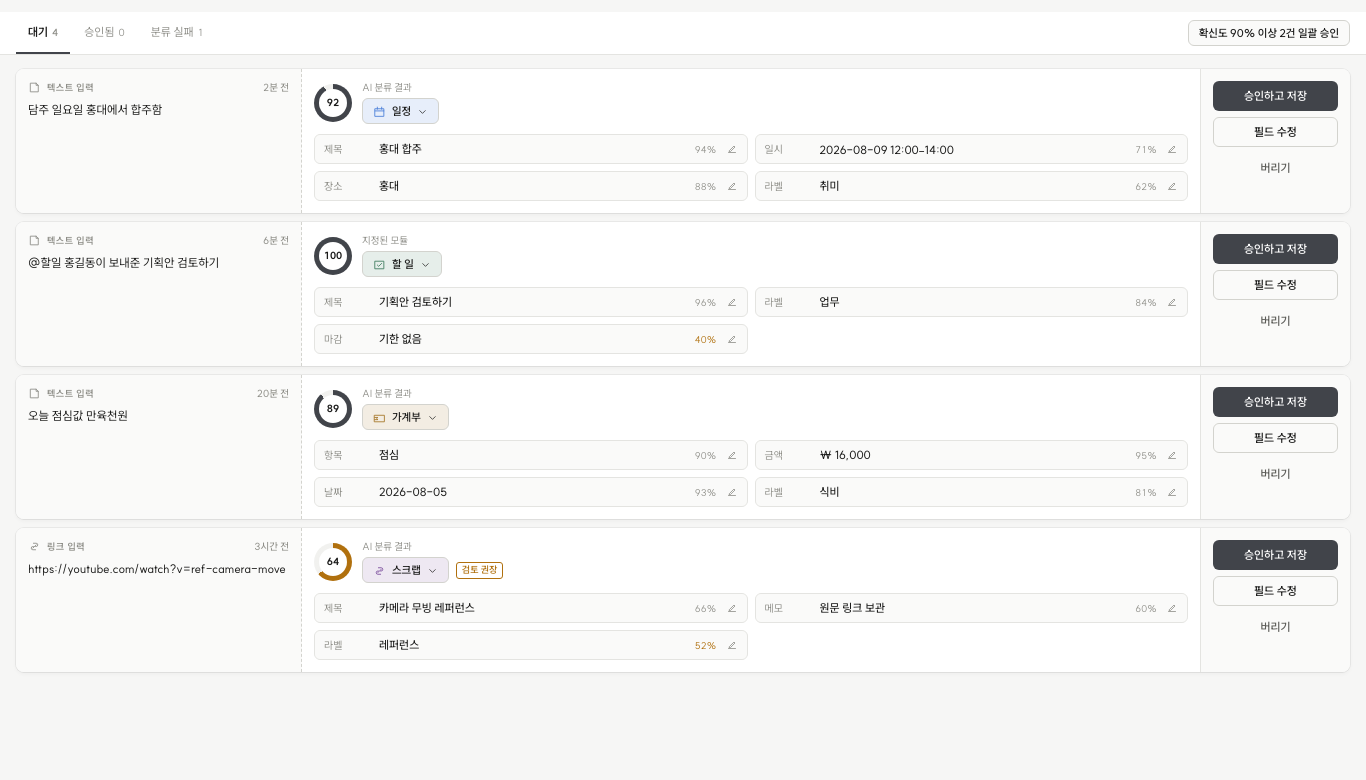
Test: InboxPage › approves a single item and high-confidence items
What coordinates should you click on to do the following:
click the button "승인하고 저장" in the row of "92"
I would click on:
 (1276, 96)
Its box is top-left (1213, 81), bottom-right (1338, 111).
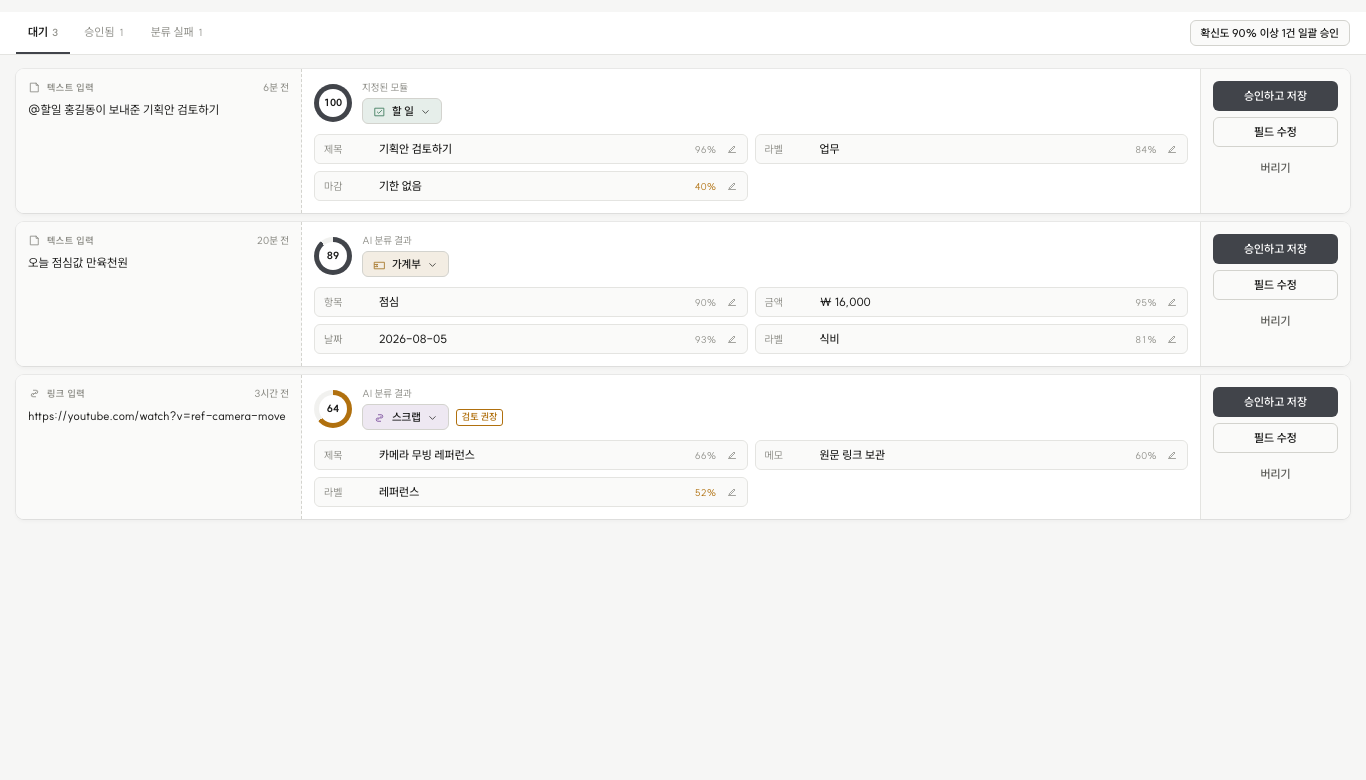
Check: the text "담주 일요일 홍대에서 합주함" is gone
What coordinates should you click on to do the following:
click the button "확신도 90% 이상 1건 일괄 승인"
I would click on:
 (1270, 33)
Its box is top-left (1190, 20), bottom-right (1350, 46).
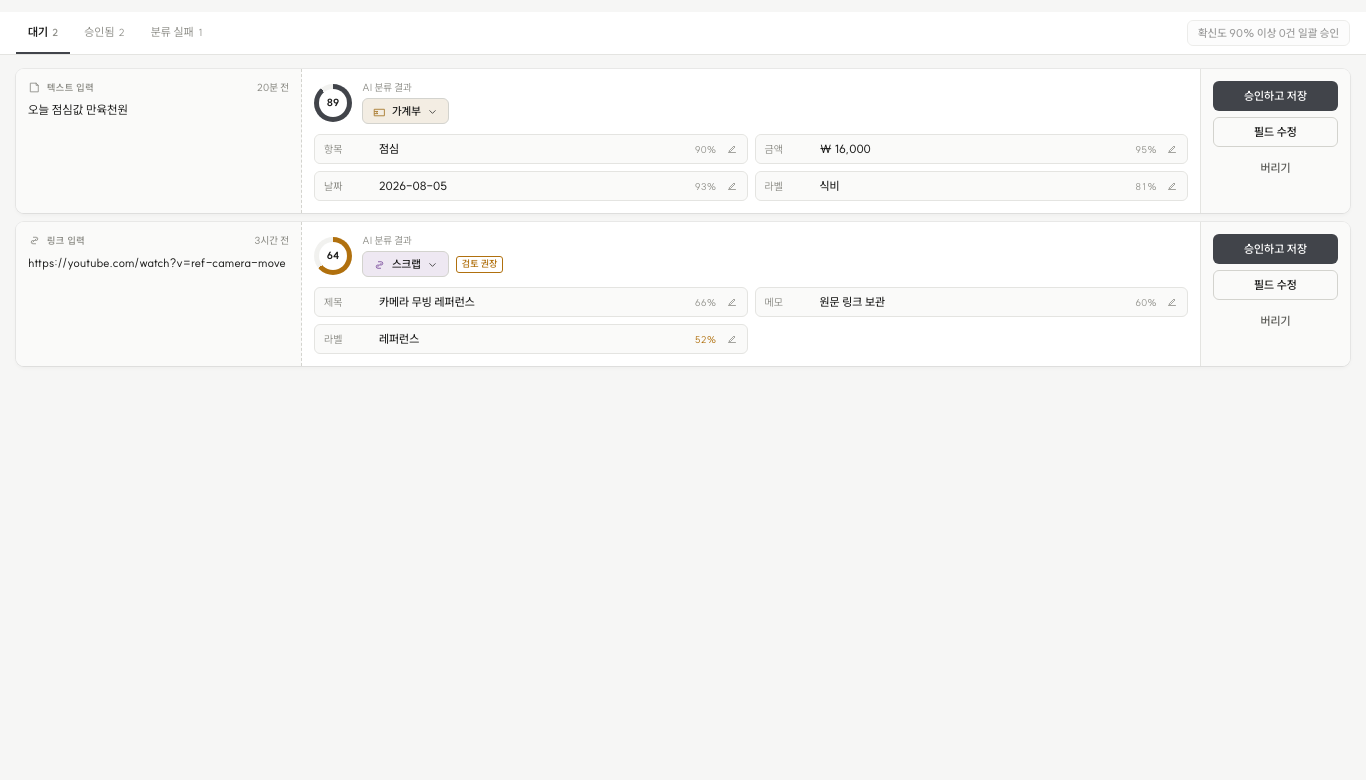
Check: the text "@할일 홍길동이 보내준 기획안 검토하기" is gone
What coordinates should you click on to do the following:
click the tab "승인됨 2"
I would click on:
 (104, 33)
Its box is top-left (72, 12), bottom-right (137, 54).
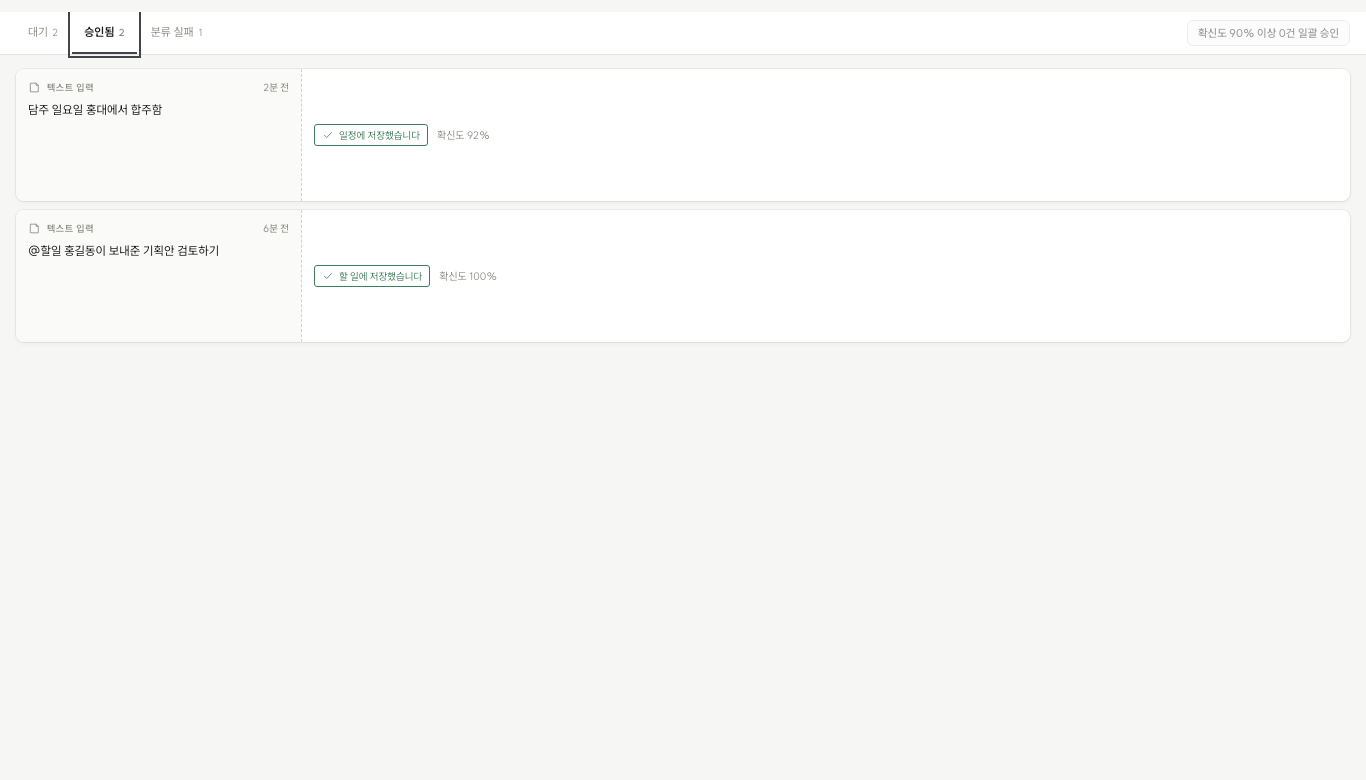
Check: the text "담주 일요일 홍대에서 합주함" is shown, box top-left (28, 102), bottom-right (162, 117)
Check: the text "@할일 홍길동이 보내준 기획안 검토하기" is shown, box top-left (28, 243), bottom-right (219, 258)
